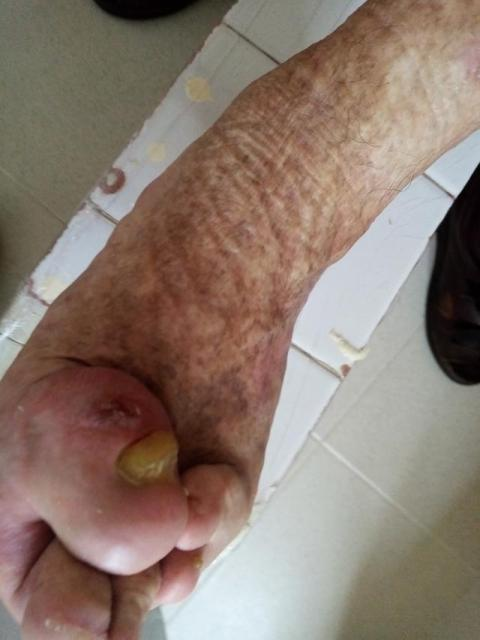wound: (71, 387, 144, 432)
